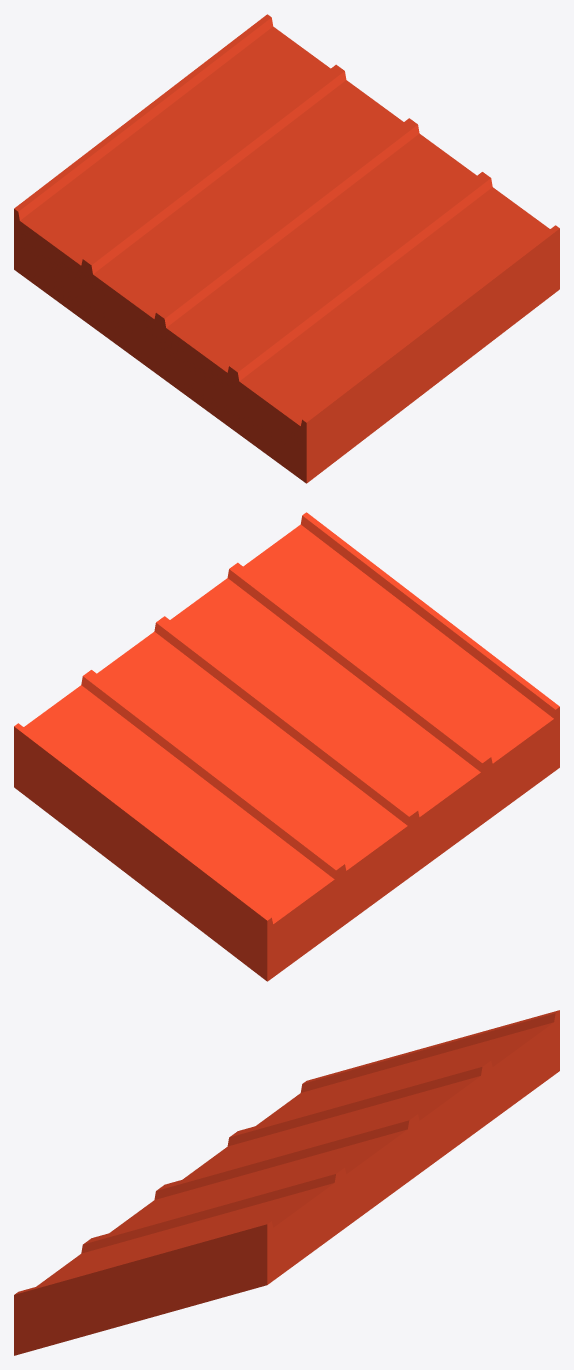
The model's file is roof-metal-moderate-2x1m.fbx.
3 renders of one model, top to bottom at view 1: azimuth 30°, elevation 25°; view 2: azimuth 150°, elevation 25°; view 3: azimuth 330°, elevation 25°, orthographic.
Parts seen in each view (by area): view 1: roof-metal-moderate-2x1m; view 2: roof-metal-moderate-2x1m; view 3: roof-metal-moderate-2x1m.
Boxes of the visible parts, x1,y1,x2,y2 form: roof-metal-moderate-2x1m: (14,14,559,483); roof-metal-moderate-2x1m: (14,512,559,981); roof-metal-moderate-2x1m: (14,1010,559,1355).
Size of the model in its own units: 1 by 0.7301 by 2.
